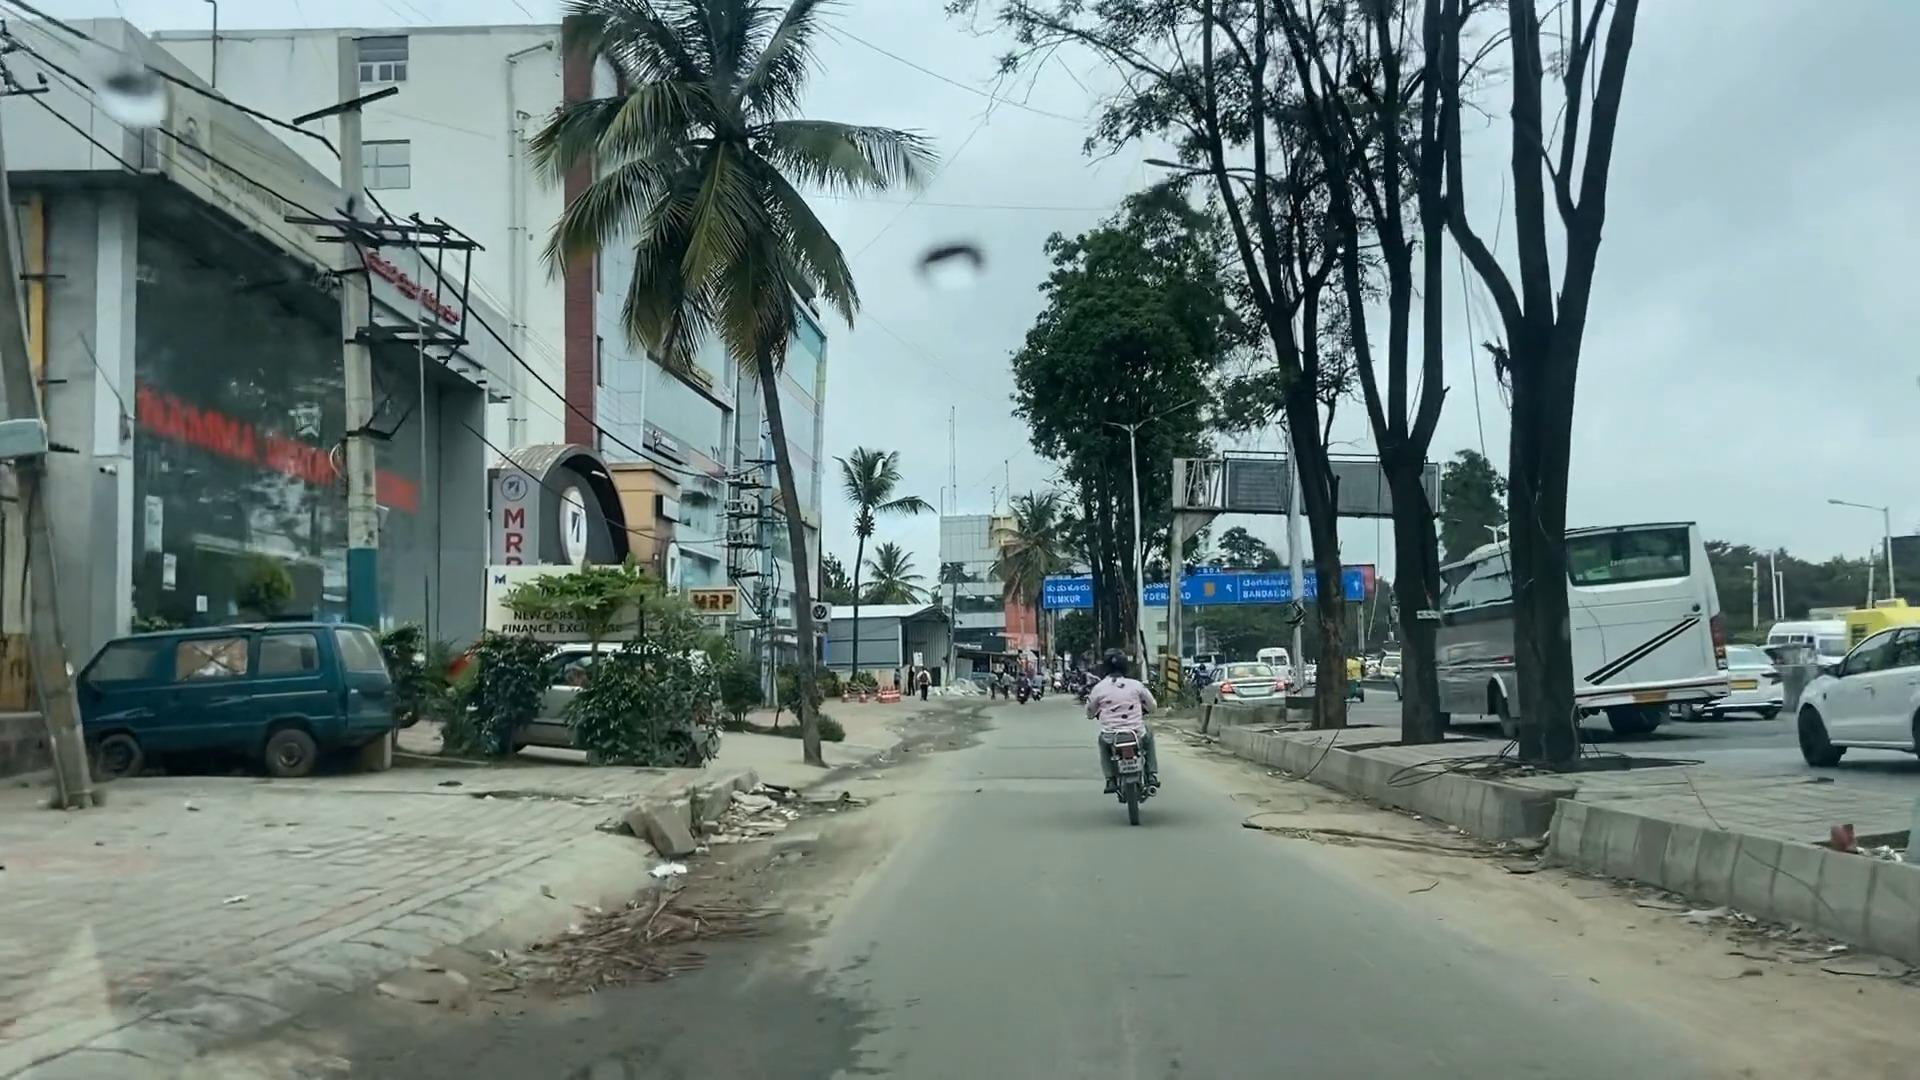LMV: (1091, 640, 1166, 824)
RoadDamages: (543, 873, 820, 1014), (1237, 787, 1464, 865)
